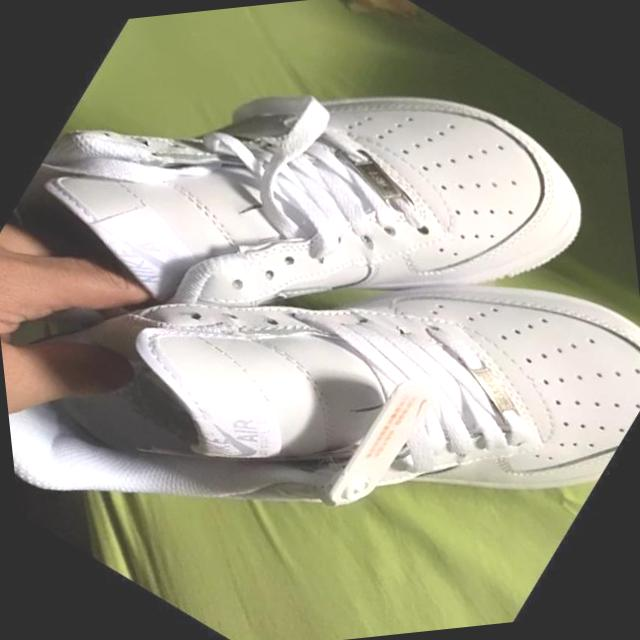nike_fake_airforce: (0, 0, 640, 640), (0, 0, 640, 523)
